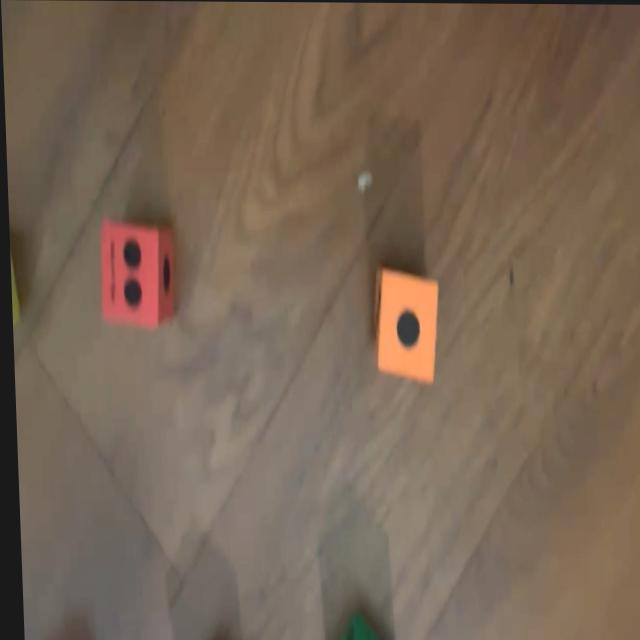cube: (94, 224, 176, 328), (323, 613, 376, 640), (8, 264, 18, 330)
